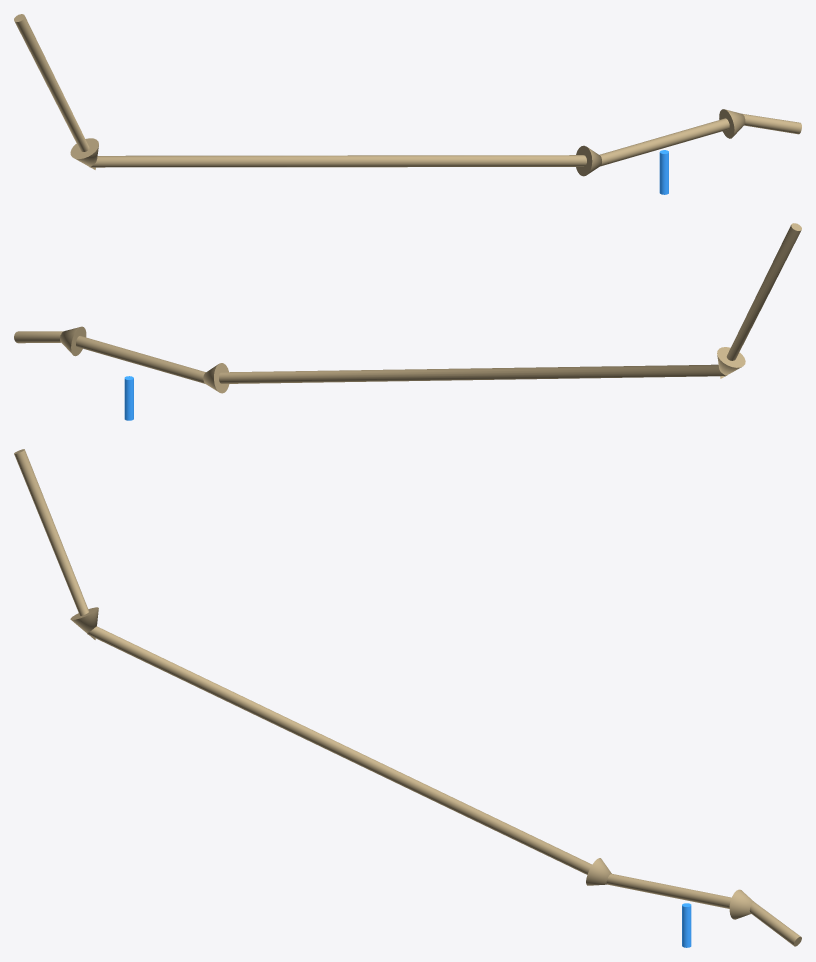
Rendered from bauxite_washing_drum_flow.glb.
3 views of the same model, one above another, from view 1: azimuth 30°, elevation 25°; view 2: azimuth 150°, elevation 25°; view 3: azimuth 330°, elevation 25° (orthographic).
Parts seen in each view (by area): view 1: ore, slimes; view 2: ore, slimes; view 3: ore.
Boxes of the visible parts, box(x1,y1,x2,y2) form: ore: box(14, 14, 801, 176); slimes: box(659, 150, 668, 194); ore: box(14, 223, 801, 393); slimes: box(124, 376, 133, 420); ore: box(14, 449, 801, 946).
Bounding box in the file's own units: 3.83 × 1.61 × 0.185.
